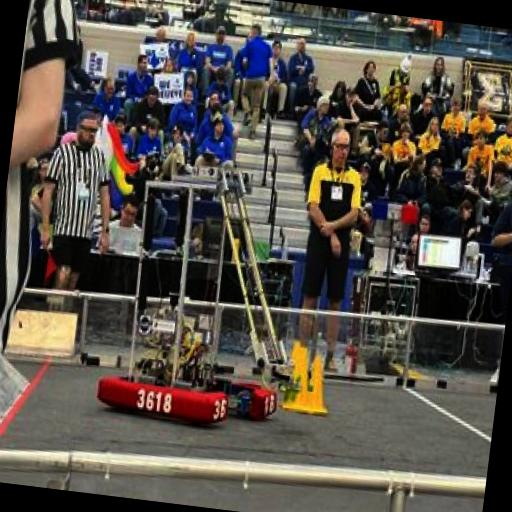robot: (90, 132, 320, 432)
